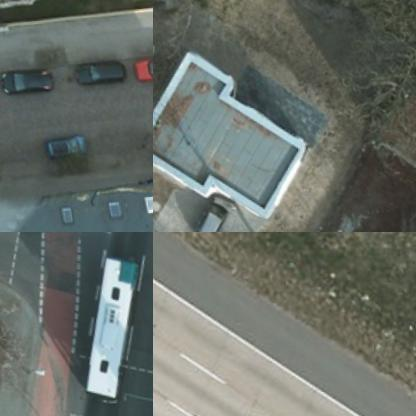car: (181, 194, 236, 231), (66, 58, 118, 89), (0, 69, 52, 99), (34, 132, 86, 162), (129, 51, 152, 85)
